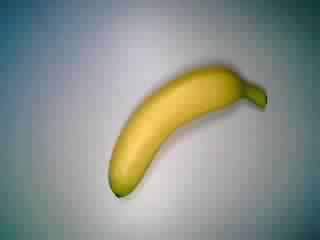banana: (103, 62, 274, 202)
